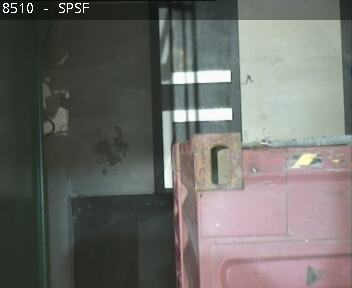groundmarker_1: (157, 8, 231, 190)
